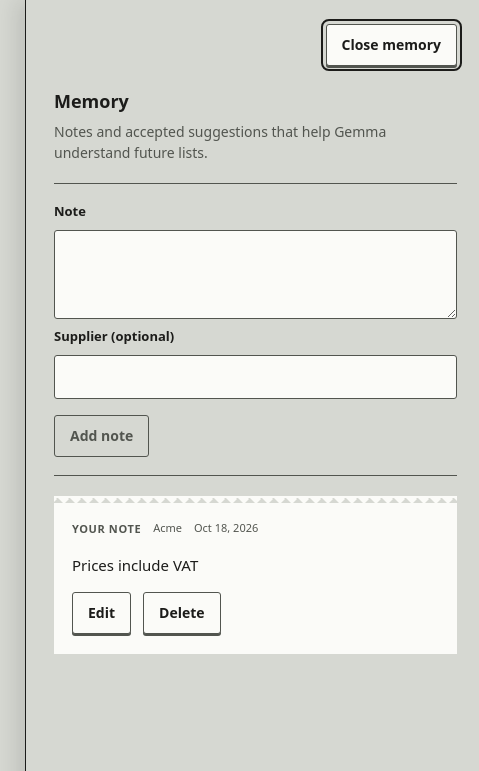
Test: MemoryPanelContainer › loads once and keeps add, edit and delete changes in the list
Expected: the text "Prices include VAT" is shown, [72, 554, 198, 574]
Type "USD" into the text box labelled "Note" at (256, 274), box [54, 230, 457, 319]
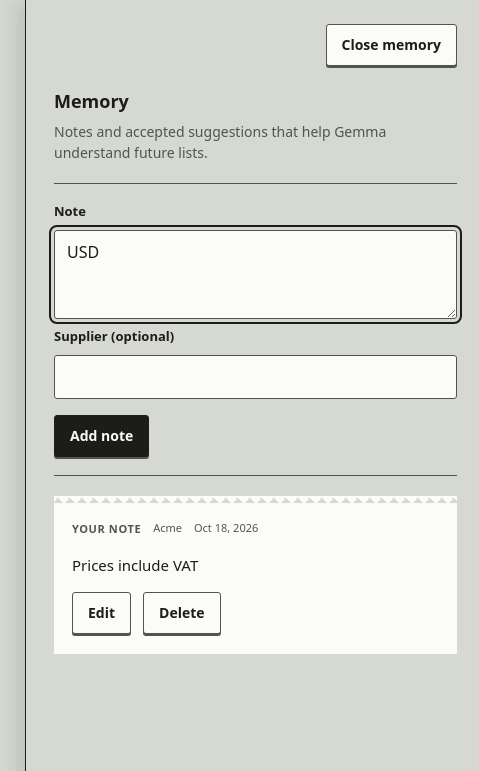
Click the button "Add note" at (102, 436), box [54, 415, 149, 457]
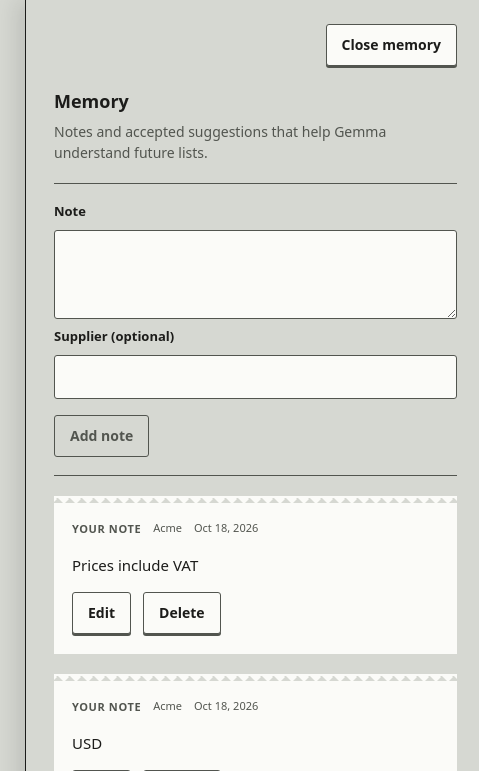
Result: the text "USD" is shown at [72, 733, 102, 753]
Click the button "Edit" below "Prices include VAT" at (102, 613), box [72, 592, 131, 634]
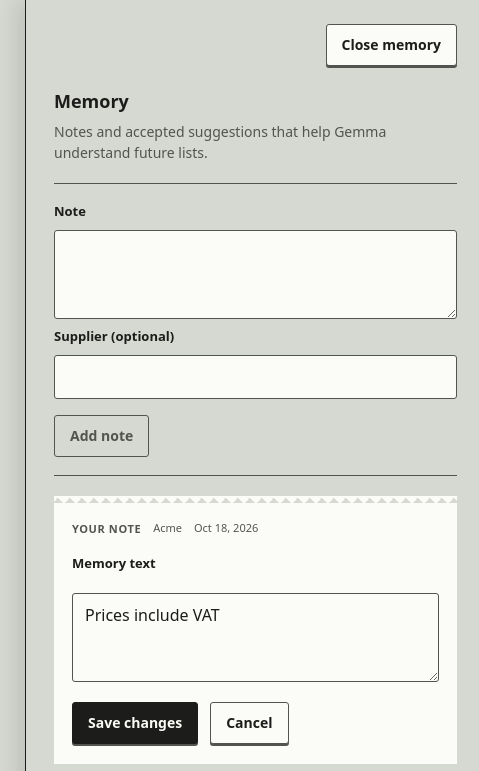
Replace the text in the text box labelled "Memory text" with "Prices exclude VAT" at (256, 638), box [72, 593, 439, 682]
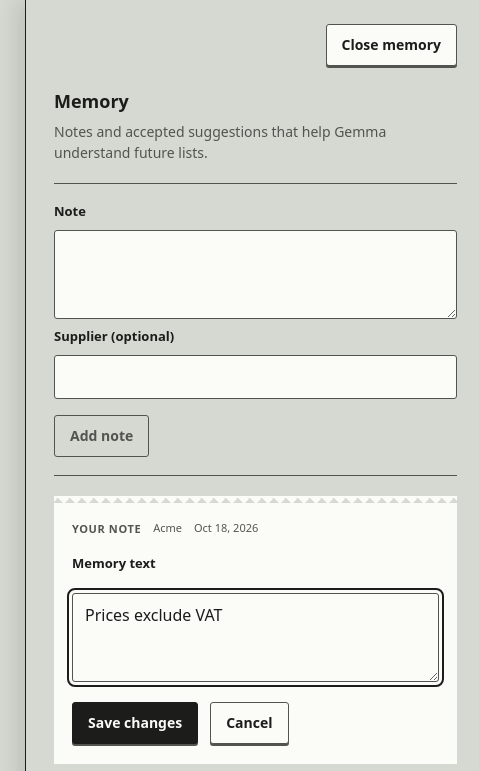
Click the button "Save changes" at (135, 723), box [72, 702, 198, 744]
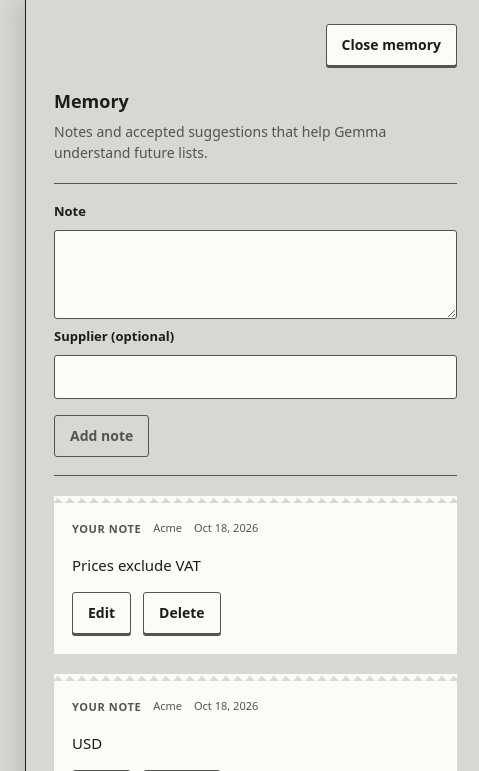
Result: the text "Prices exclude VAT" is shown at [72, 554, 201, 574]
Click the button "Delete" below "Prices exclude VAT" at (182, 613), box [143, 592, 221, 634]
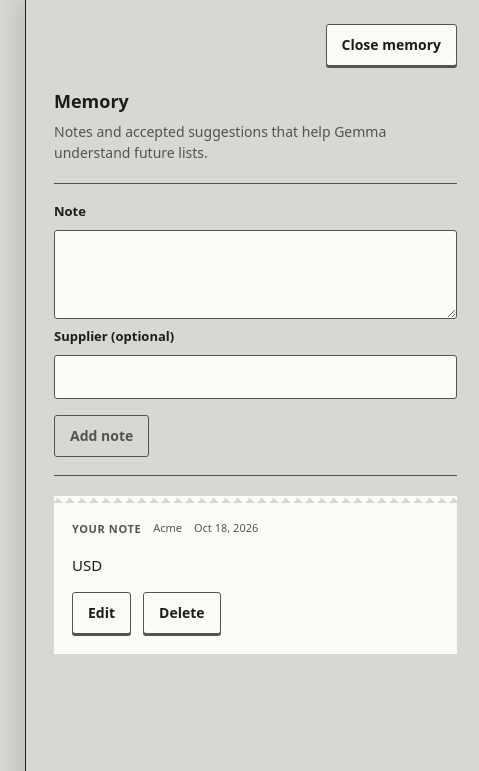
Result: the text "Prices exclude VAT" is gone
